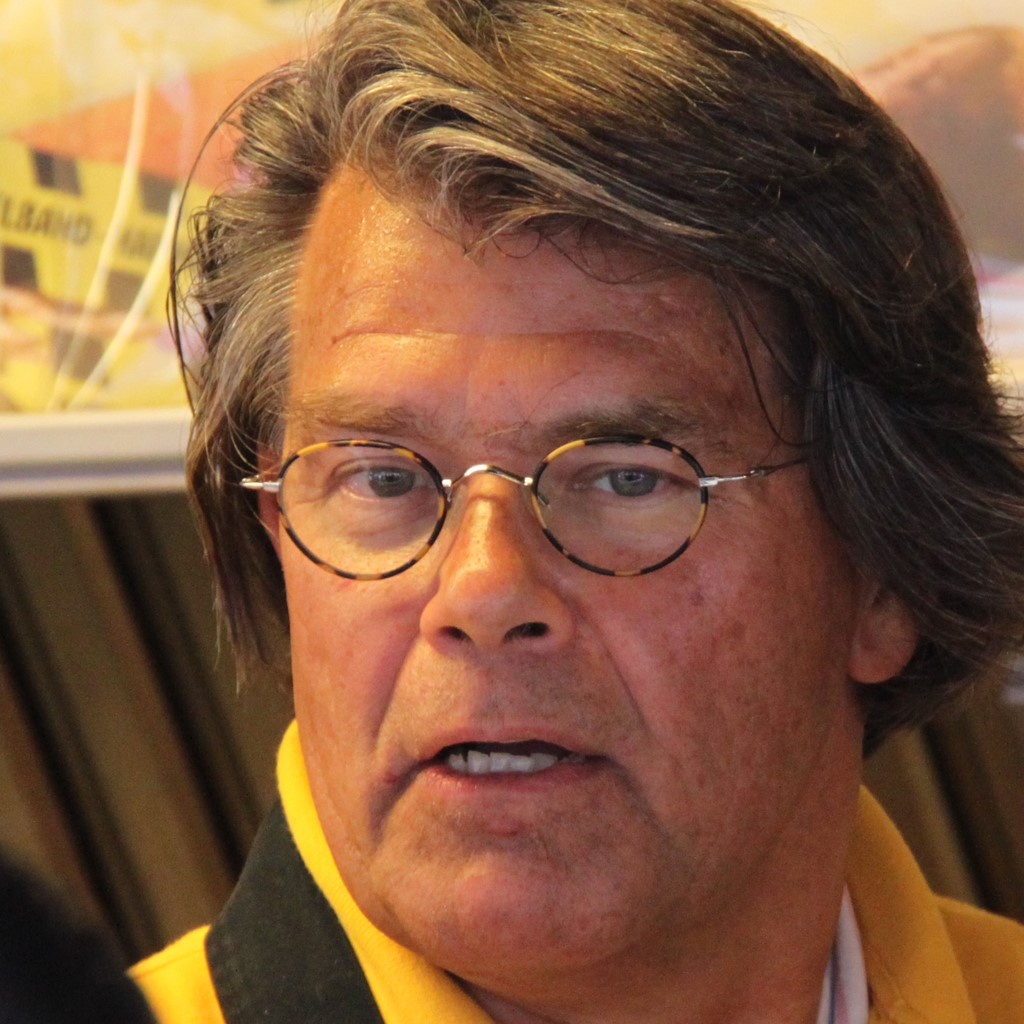sin_mascara: (244, 117, 822, 977)
